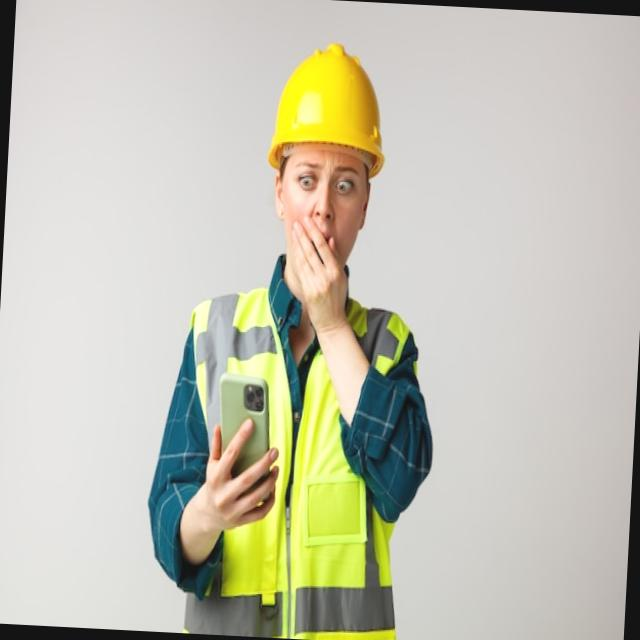helmet: (260, 50, 394, 150)
no-goggles: (268, 156, 374, 215)
vest: (164, 289, 429, 640)
